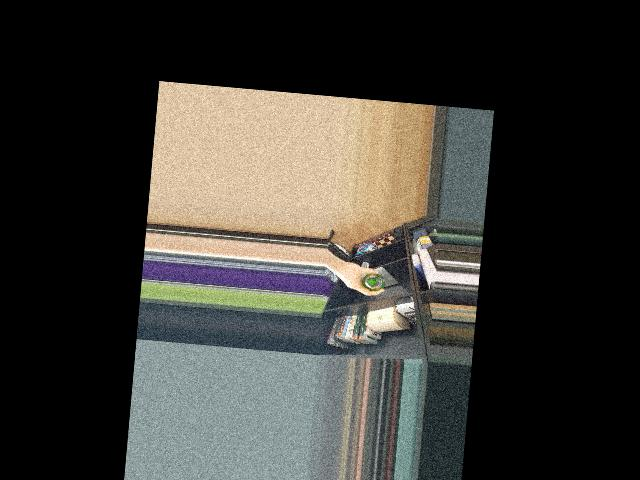beer: (361, 271, 384, 291)
